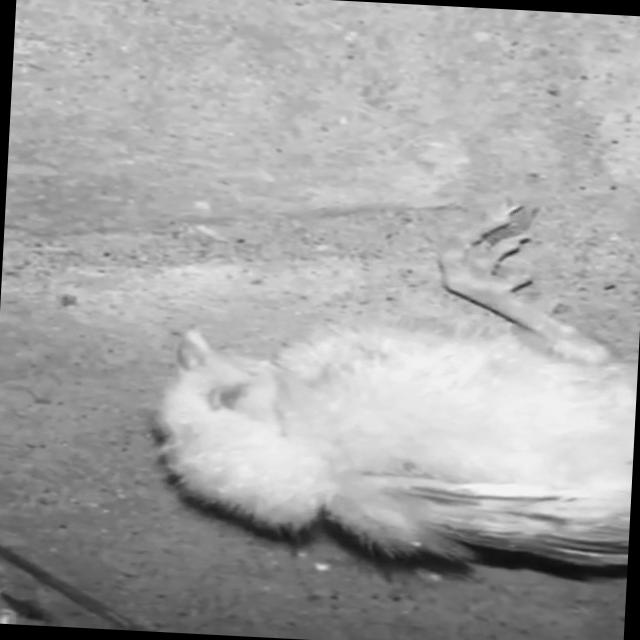abnormal chicken: (146, 203, 640, 602)
